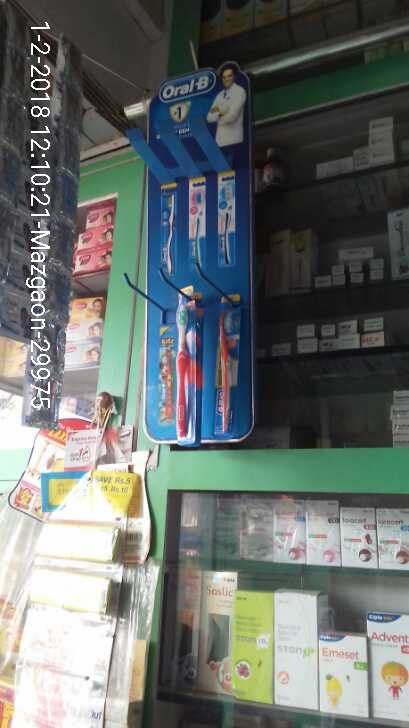oralb: (164, 305, 196, 451), (212, 302, 239, 431)
